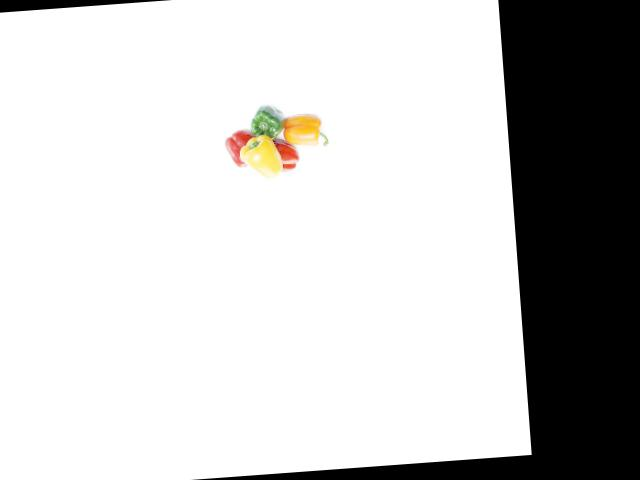bell_pepper: (241, 98, 288, 149)
